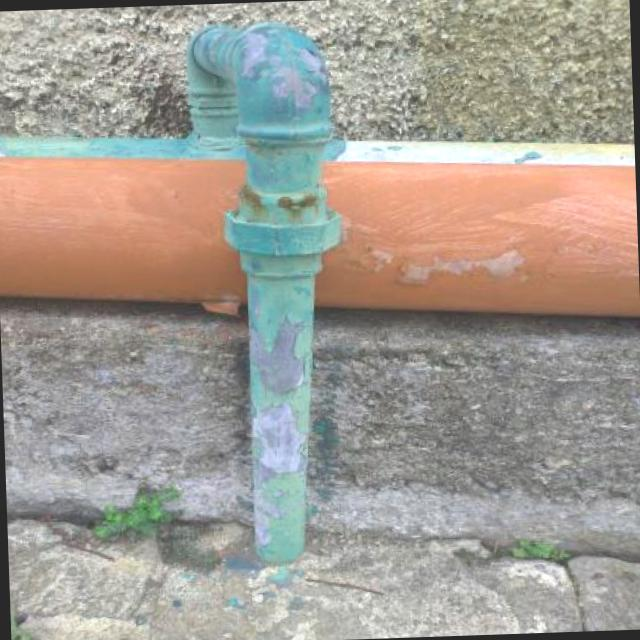gas: (0, 159, 640, 316), (195, 26, 337, 552)
